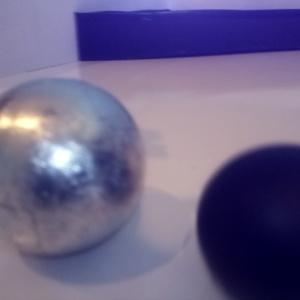zone: (74, 8, 300, 61)
